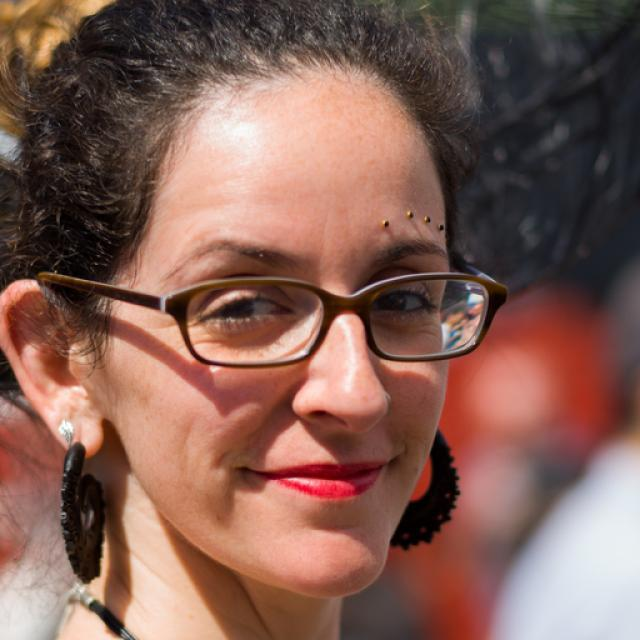happy: (106, 93, 450, 586)
